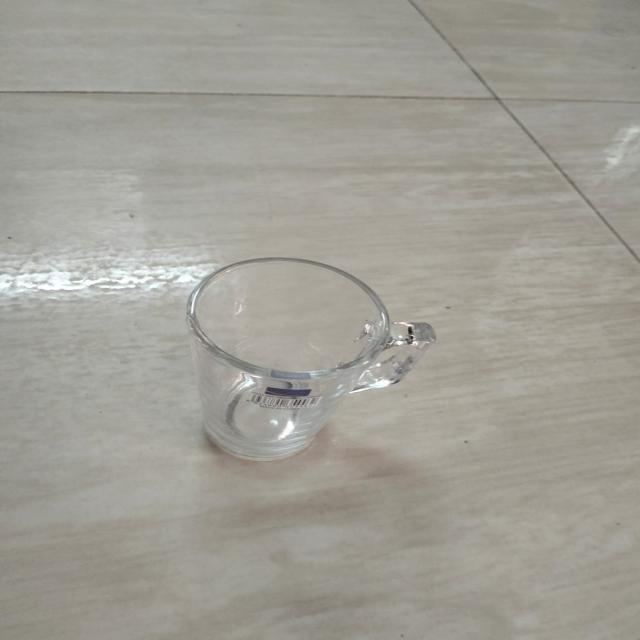glass-VX4N: (173, 257, 440, 458)
